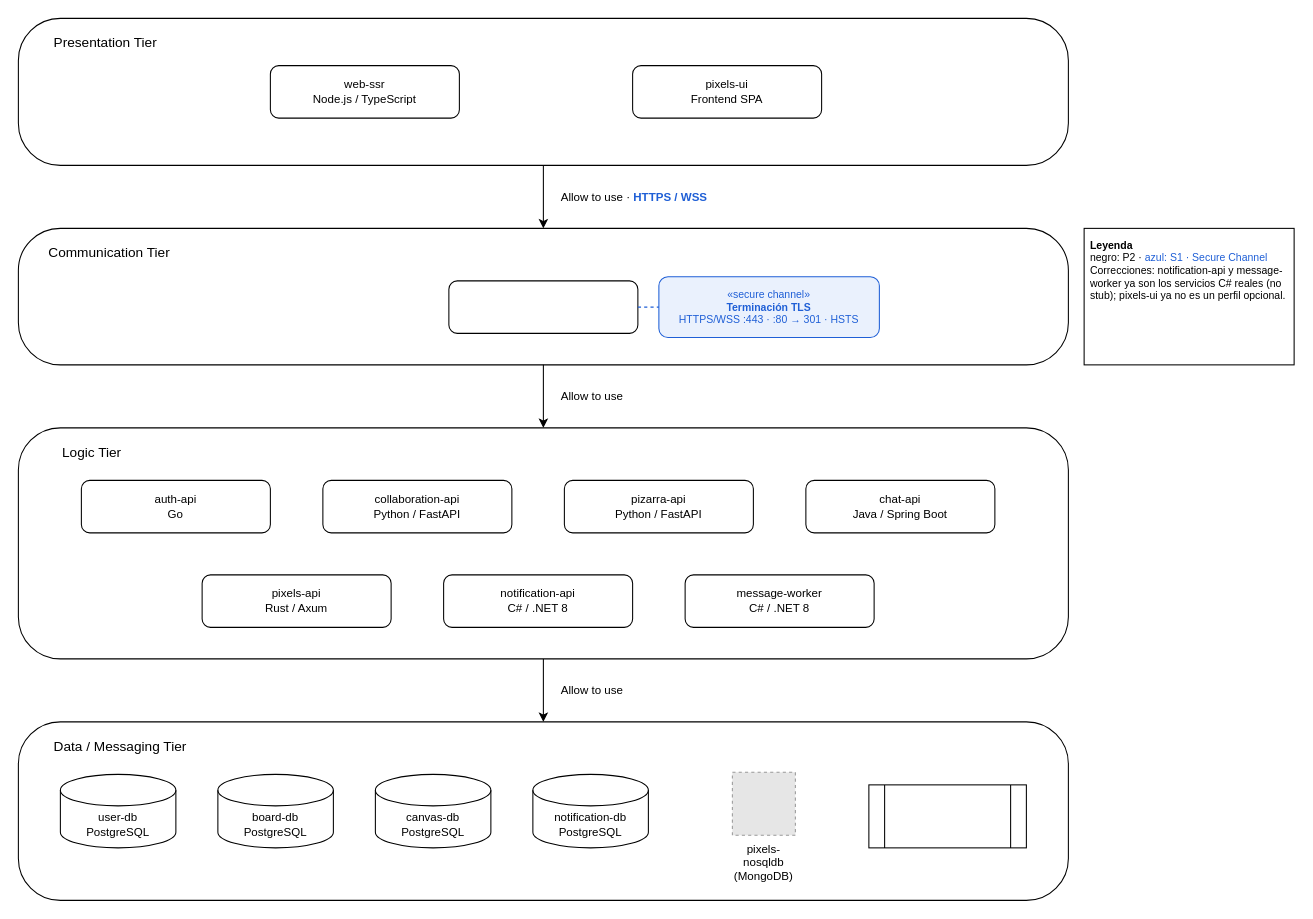
Image size: 1313x919. Some labels were removed from this diagram. Grey dashed boxes stand in for pictures. The shapes that lost their labels are listed below. From the top down, each one's centre as x and y in pixels, then its label:
At point 543,306: "gateway Nginx".
At point 947,816: "rabbitmq RabbitMQ".
